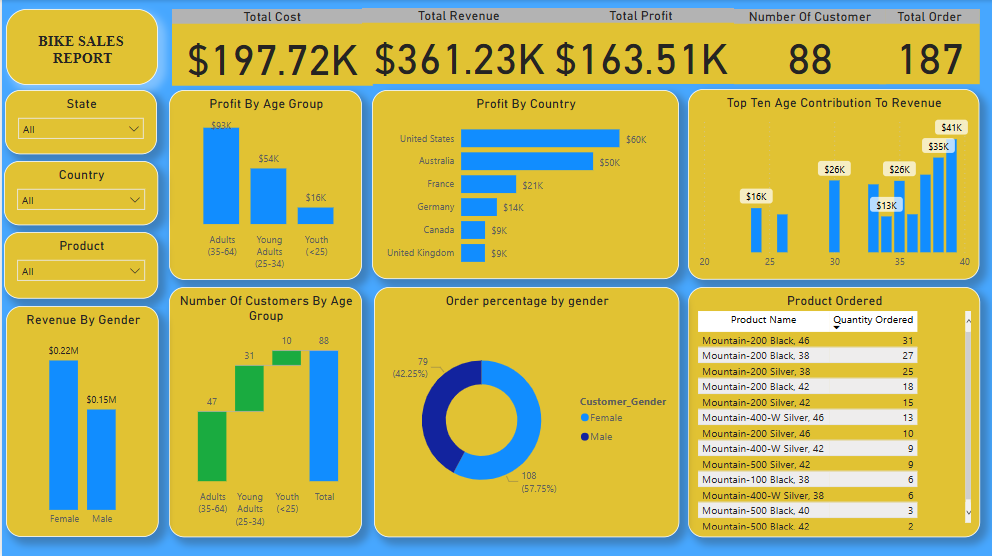

This screenshot's page, from the dashboard's own definition file:
{"tool":"powerbi","page":{"name":"Page 1","canvas":[1280,720],"ordinal":0},"visuals":[{"type":"columnChart","title":"Profit By Age Group","fields":{"Category":["Bike sales.Age_Group"],"Y":["Sum(Bike sales. Profit )"]},"box":[216.1,115.6,249.1,245],"z":0},{"type":"textbox","box":[5.2,11.6,196.1,98.1],"z":1000},{"type":"barChart","title":" Profit By Country","fields":{"Category":["Bike sales.Country"],"Y":["Sum(Bike sales. Profit )"]},"box":[477.1,115.7,395.7,244.3],"z":2000},{"type":"waterfallChart","title":"Number Of Customers By Age Group","fields":{"Category":["Bike sales.Age_Group"],"Y":["CountNonNull(Bike sales.Order_Id)"]},"box":[215.5,370.3,249,322.6],"z":3000},{"type":"card","title":"Total Order","fields":{"Values":["Sum(Bike sales.Order_Quantity)"]},"box":[1131.6,11.6,130.3,96.8],"z":4000},{"type":"slicer","title":"State","fields":{"Values":["Bike sales.State"]},"box":[3.9,116.1,196.1,82.6],"z":5000},{"type":"slicer","title":"Country","fields":{"Values":["Bike sales.Country"]},"box":[2.6,207.7,198.7,82.6],"z":6000},{"type":"slicer","title":"Product","fields":{"Values":["Bike sales.Product_Description"]},"box":[2.6,299.4,198.7,86.5],"z":7000},{"type":"card","title":"Total Cost","fields":{"Values":["Sum(Bike sales. Cost )"]},"box":[218.8,11,258.8,99.1],"z":8000},{"type":"card","title":"Total Revenue","fields":{"Values":["Sum(Bike sales.Revenue)"]},"box":[464.5,10.3,250.3,98.1],"z":9000},{"type":"card","title":"Total Profit","fields":{"Values":["Sum(Bike sales. Profit )"]},"box":[704.5,10.3,240,98.1],"z":10000},{"type":"lineClusteredColumnComboChart","title":"Top Ten Age Contribution To Revenue","fields":{"Category":["Bike sales.Customer_Age"],"Y":["Sum(Bike sales.Revenue)"]},"box":[885.7,114.3,375.7,245.7],"z":11000},{"type":"tableEx","title":"Product Ordered","fields":{"Values":["Bike sales.Product_Description","Sum(Bike sales.Quantity Orded)"]},"box":[885.2,370.3,376.8,322.6],"z":12000},{"type":"card","title":"Number Of Customer","fields":{"Values":["CountNonNull(Bike sales.Order_Id)"]},"box":[944.5,11.6,196.1,96.8],"z":13000},{"type":"columnChart","title":"Revenue By Gender","fields":{"Category":["Bike sales.Customer_Gender"],"Y":["Sum(Bike sales.Revenue)"]},"box":[5.2,394.8,197.4,298.1],"z":14000},{"type":"donutChart","title":"Order percentage by gender","fields":{"Y":["Sum(Bike sales.Quantity Orded)"],"Category":["Bike sales.Customer_Gender"]},"box":[480,370.3,393.5,322.6],"z":15000}]}

Visuals, with their boxes in screenshot pixels (x1, y1, x2, y2), scaled from the page's 1280x720 canvas onto the 992x556 screenshot:
"Profit By Age Group" columnChart: x1=167 y1=89 x2=361 y2=278
textbox: x1=4 y1=9 x2=156 y2=85
" Profit By Country" barChart: x1=370 y1=89 x2=676 y2=278
"Number Of Customers By Age Group" waterfallChart: x1=167 y1=286 x2=360 y2=535
"Total Order" card: x1=877 y1=9 x2=978 y2=84
"State" slicer: x1=3 y1=90 x2=155 y2=153
"Country" slicer: x1=2 y1=160 x2=156 y2=224
"Product" slicer: x1=2 y1=231 x2=156 y2=298
"Total Cost" card: x1=170 y1=8 x2=370 y2=85
"Total Revenue" card: x1=360 y1=8 x2=554 y2=84
"Total Profit" card: x1=546 y1=8 x2=732 y2=84
"Top Ten Age Contribution To Revenue" lineClusteredColumnComboChart: x1=686 y1=88 x2=978 y2=278
"Product Ordered" tableEx: x1=686 y1=286 x2=978 y2=535
"Number Of Customer" card: x1=732 y1=9 x2=884 y2=84
"Revenue By Gender" columnChart: x1=4 y1=305 x2=157 y2=535
"Order percentage by gender" donutChart: x1=372 y1=286 x2=677 y2=535
